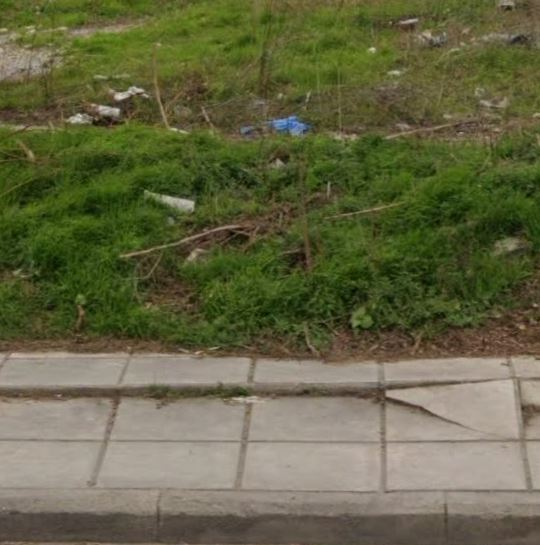trash: (47, 78, 157, 134), (242, 106, 323, 145), (130, 181, 205, 219)
